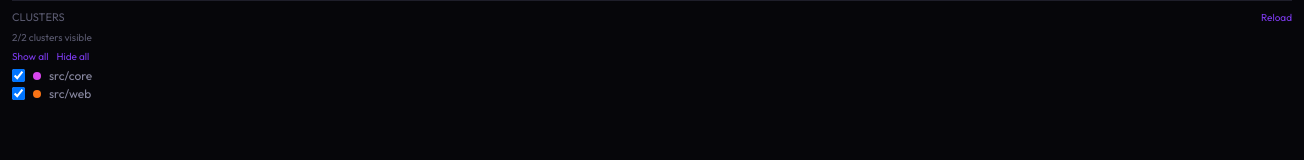
useClusterLegend + ClusterLegend › toggling a cluster row updates the visible set
Check: the text with test id "cluster-legend-summary" reads "2/2 clusters visible", box [12,30,92,44]
Click the label with test id "cluster-row-cluster:src/core" at (52, 75), box [12,68,92,82]
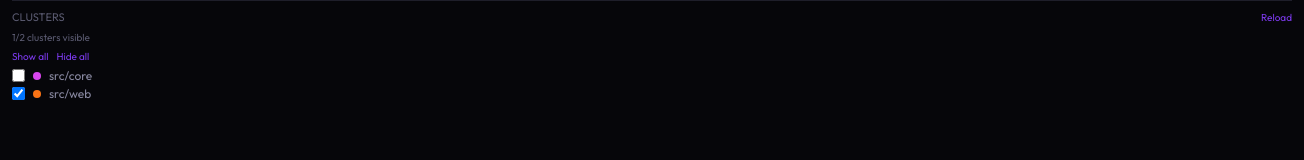
Check: the text with test id "cluster-legend-summary" reads "1/2 clusters visible", box [12,30,90,44]
Click the label with test id "cluster-row-cluster:src/web" at (52, 93), box [12,86,91,100]
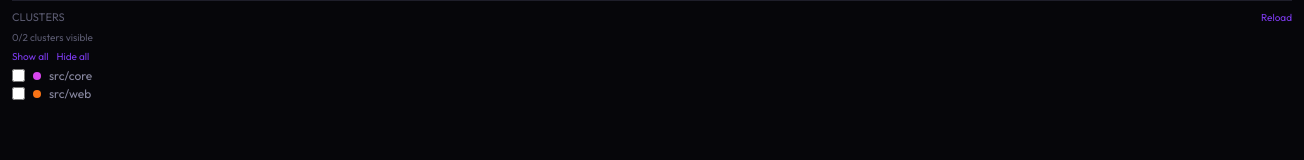
Check: the text with test id "cluster-legend-summary" reads "0/2 clusters visible", box [12,30,93,44]
